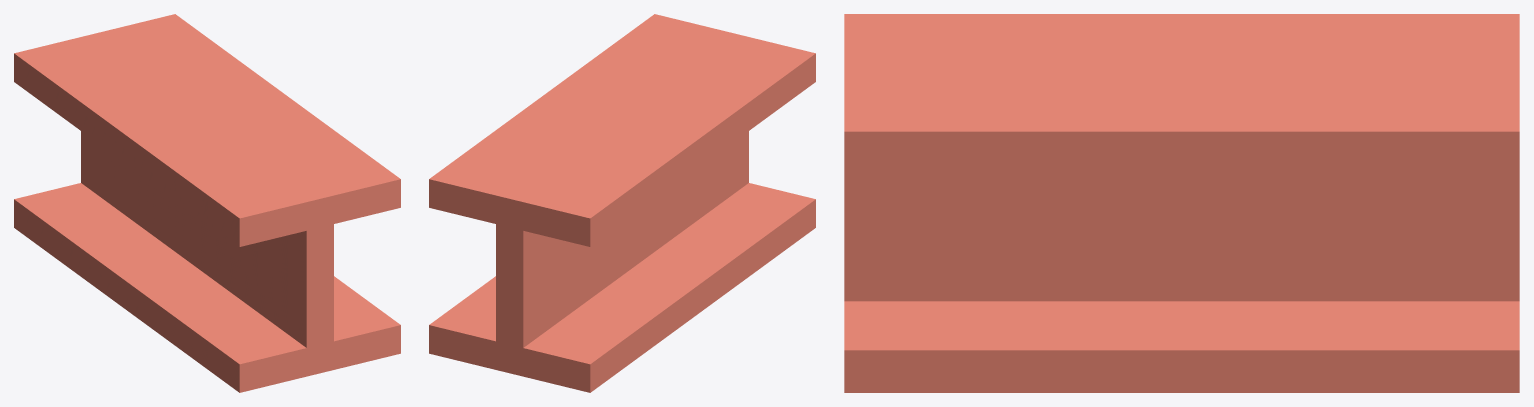
Rendered from beam.gltf.
The picture shows the model from 3 angles, left to right: view 1: azimuth 30°, elevation 25°; view 2: azimuth 150°, elevation 25°; view 3: azimuth 270°, elevation 25°; orthographic projection. The views are drawn at different scales.
Visible parts, largest first — view 1: Beam; view 2: Beam; view 3: Beam.
Part boxes in pixels (x1,y1,x2,y2): Beam: (14, 14, 400, 392); Beam: (429, 14, 815, 392); Beam: (844, 14, 1519, 392).
Bounding box in the file's own units: 0.59 × 0.61 × 1.43.
